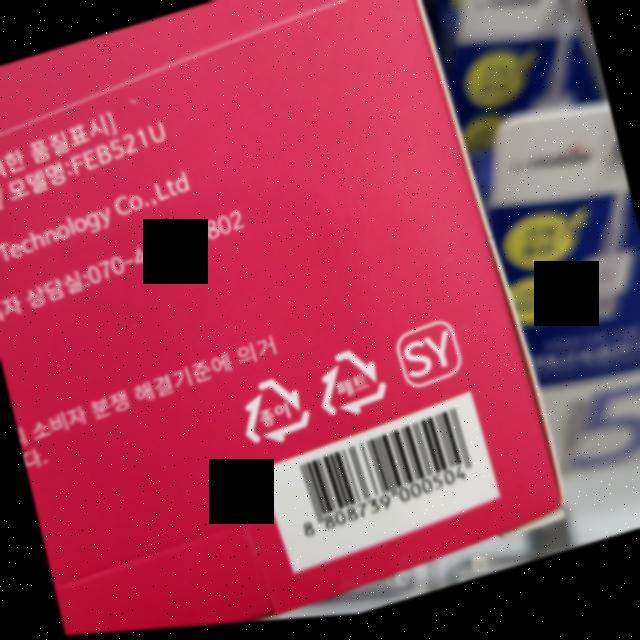PET: (306, 343, 393, 433)
Paper: (230, 370, 316, 460)
